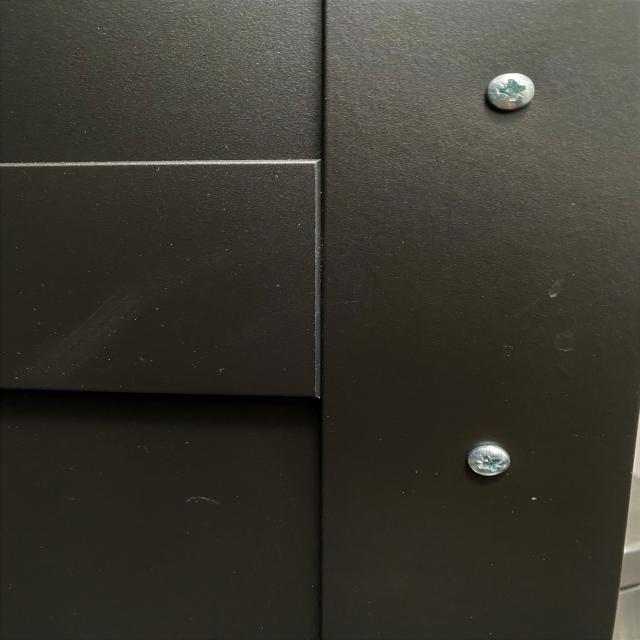PhillipsScrewHead: (486, 72, 536, 111), (468, 445, 512, 476)
